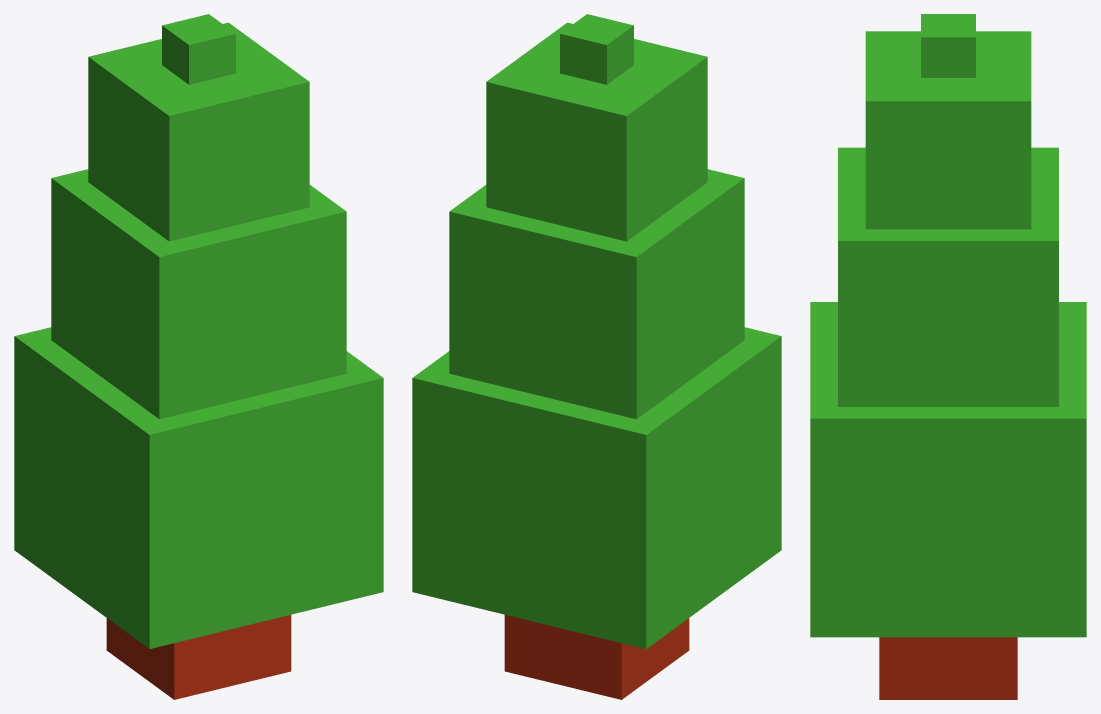
File: single_tree_2.fbx
3 renders of one model, left to right at view 1: azimuth 30°, elevation 25°; view 2: azimuth 150°, elevation 25°; view 3: azimuth 270°, elevation 25°, orthographic. The views are drawn at different scales.
Visible parts, largest first — view 1: Cube.006, Cube.007, Cube.008, Cube.005, Cube.009; view 2: Cube.006, Cube.007, Cube.008, Cube.005, Cube.009; view 3: Cube.006, Cube.007, Cube.008, Cube.005, Cube.009.
Boxes of the visible parts, x1=… form: Cube.006: x1=14, y1=327, x2=383, y2=649; Cube.007: x1=51, y1=169, x2=346, y2=419; Cube.008: x1=88, y1=22, x2=309, y2=241; Cube.005: x1=106, y1=615, x2=291, y2=699; Cube.009: x1=162, y1=14, x2=235, y2=84; Cube.006: x1=412, y1=327, x2=781, y2=649; Cube.007: x1=449, y1=169, x2=744, y2=419; Cube.008: x1=486, y1=22, x2=707, y2=241; Cube.005: x1=504, y1=615, x2=689, y2=699; Cube.009: x1=560, y1=14, x2=633, y2=84; Cube.006: x1=810, y1=302, x2=1086, y2=637; Cube.007: x1=838, y1=147, x2=1058, y2=406; Cube.008: x1=865, y1=31, x2=1031, y2=229; Cube.005: x1=879, y1=637, x2=1017, y2=699; Cube.009: x1=921, y1=14, x2=975, y2=77.
Size of the model in its own units: 2.4 by 6.19 by 2.4.
